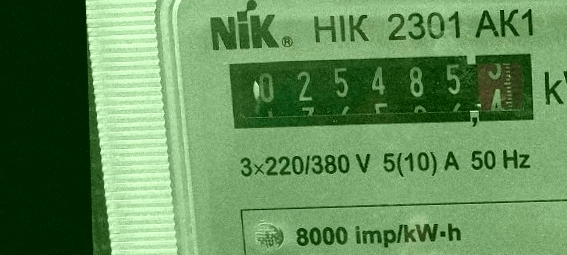0: (254, 68, 276, 104)
2: (293, 67, 314, 103)
4: (366, 62, 388, 97), (486, 85, 506, 113)
5: (441, 60, 463, 98), (329, 63, 350, 99)
8: (405, 61, 426, 100)
screen: (219, 45, 542, 140)
